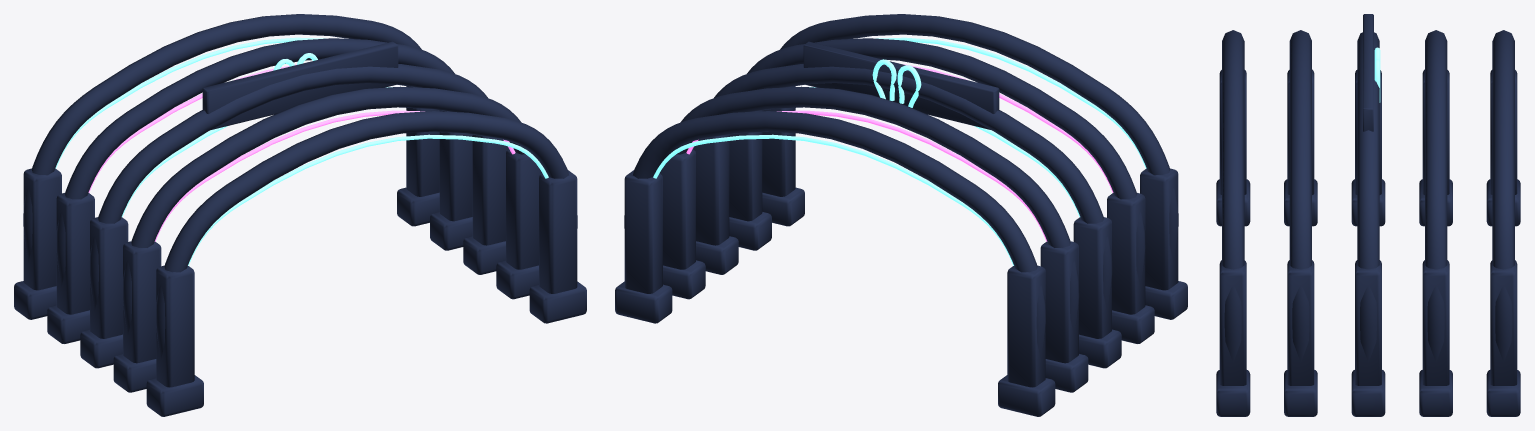
The model's file is landmark-neon.glb.
3 renders of one model, left to right at view 1: azimuth 30°, elevation 25°; view 2: azimuth 150°, elevation 25°; view 3: azimuth 270°, elevation 25°, orthographic.
Visible parts, largest first — view 1: Landmark_neon_CityMetal, Landmark_neon_NeonCyan, Landmark_neon_NeonPink; view 2: Landmark_neon_CityMetal, Landmark_neon_NeonCyan, Landmark_neon_NeonPink; view 3: Landmark_neon_CityMetal.
Part boxes in pixels (x1,y1,x2,y2): Landmark_neon_CityMetal: (14,14,586,416); Landmark_neon_NeonCyan: (55,37,548,265); Landmark_neon_NeonPink: (88,64,515,241); Landmark_neon_CityMetal: (615,14,1187,416); Landmark_neon_NeonCyan: (653,37,1146,265); Landmark_neon_NeonPink: (686,64,1113,241); Landmark_neon_CityMetal: (1216,14,1520,416).
Bounding box in the file's own units: 22.3 × 12.64 × 13.5.
